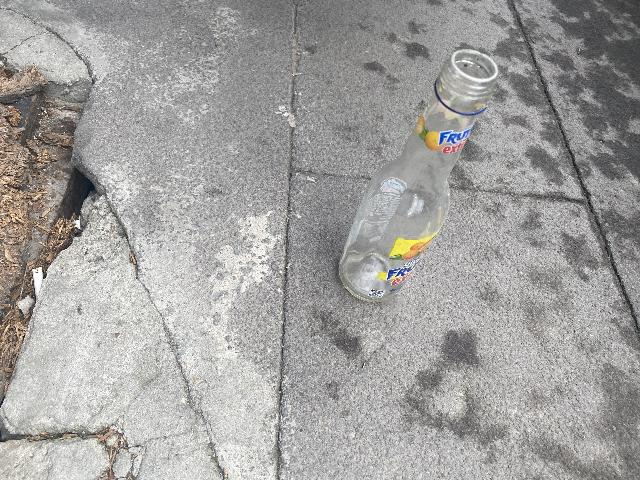Cam: (335, 40, 516, 303)
Plastik: (402, 110, 494, 159), (379, 237, 437, 290)
